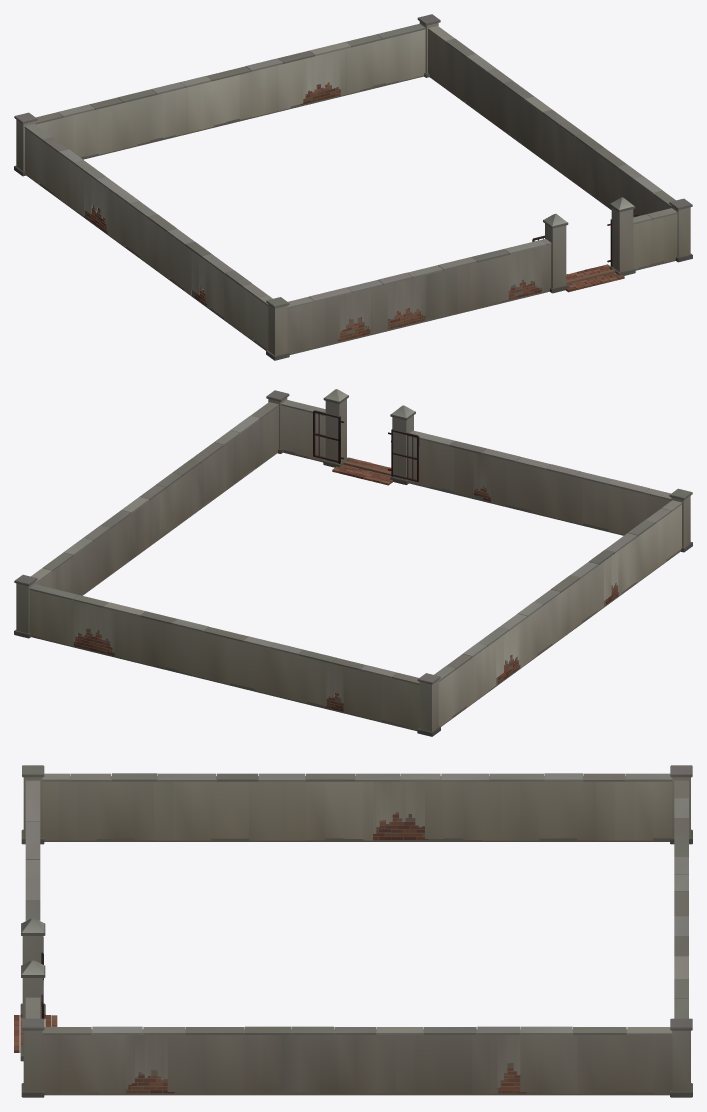
File: house_plots_1.glb
3 views of the same model, one above another, from view 1: azimuth 30°, elevation 25°; view 2: azimuth 150°, elevation 25°; view 3: azimuth 270°, elevation 25° (orthographic). The views are drawn at different scales.
Visible parts, largest first — view 1: house_plots_1_hb_main; view 2: house_plots_1_hb_main, house_plots_1_hb_metal; view 3: house_plots_1_hb_main.
Boxes of the visible parts, x1,y1,x2,y2 form: house_plots_1_hb_main: (14, 14, 692, 360); house_plots_1_hb_main: (14, 389, 692, 736); house_plots_1_hb_metal: (313, 410, 419, 481); house_plots_1_hb_main: (14, 765, 692, 1097).
Size of the model in its own units: 11.45 by 1.93 by 12.5.
